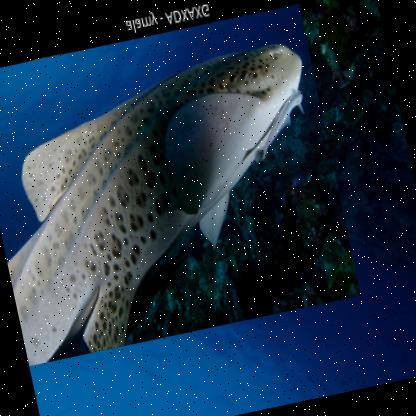zebra_shark: (0, 2, 362, 366)
